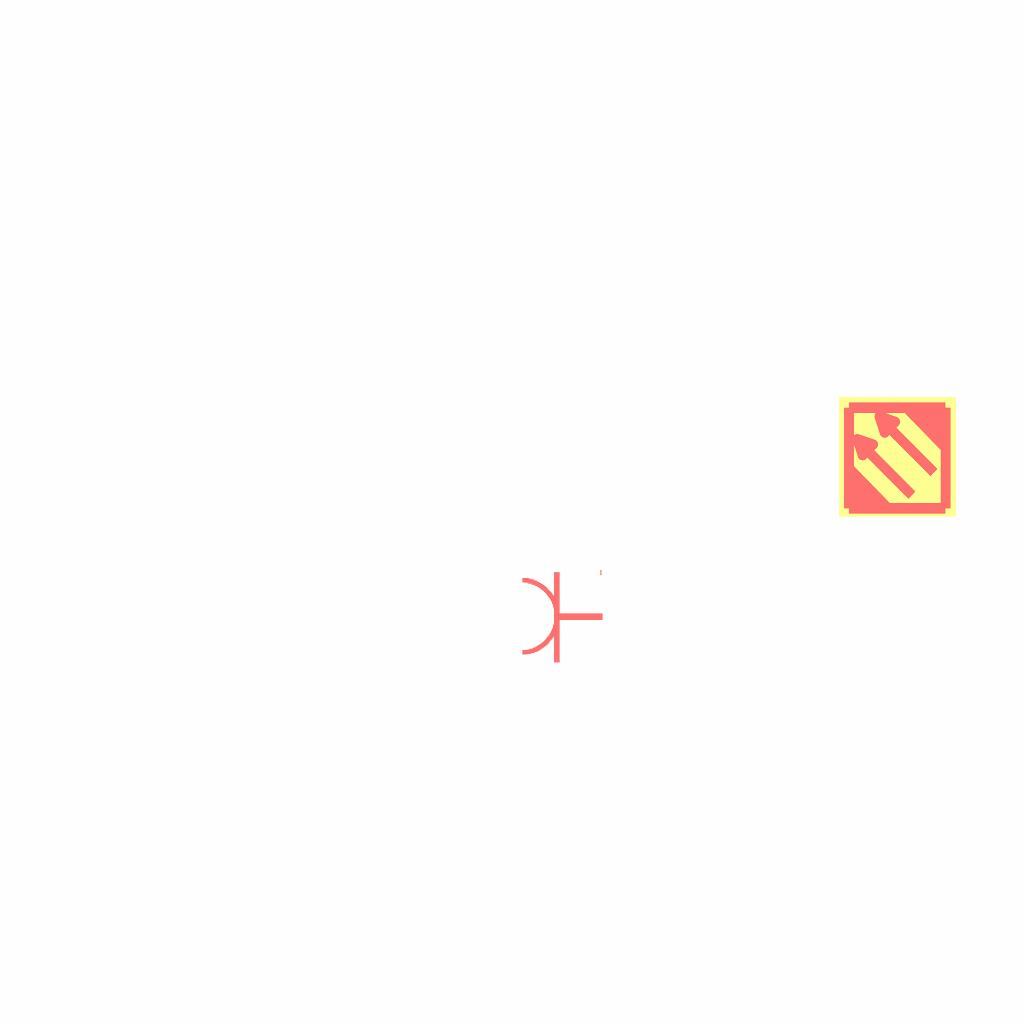ASR_Ansaugrauchmelder: (835, 394, 960, 519)
Schukosteckdose_einfach: (518, 565, 605, 665)
